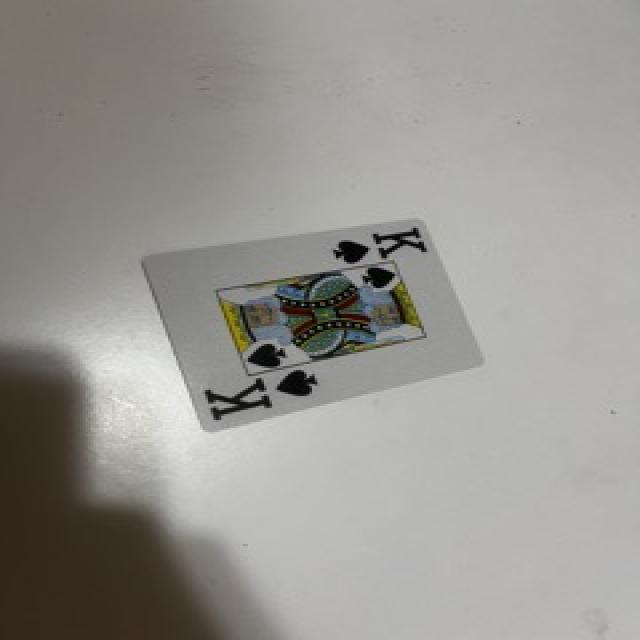King of spades: (145, 220, 482, 430)
